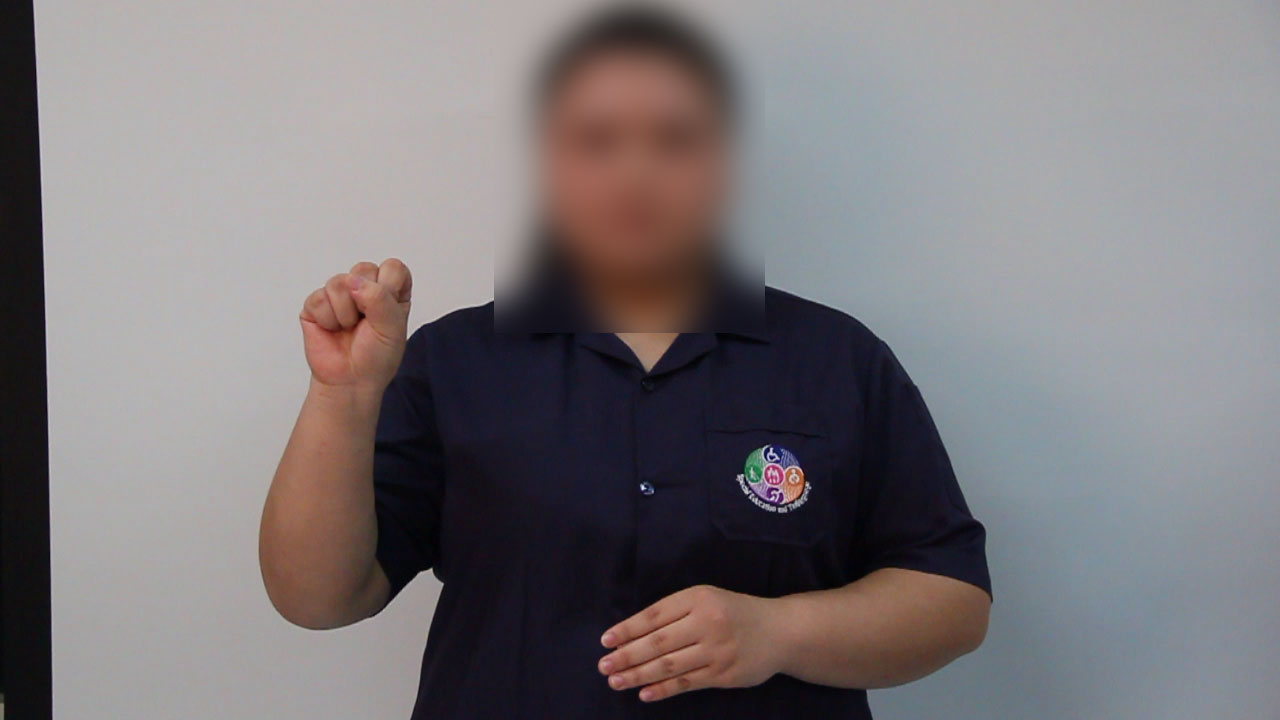sor: (281, 244, 425, 403)
